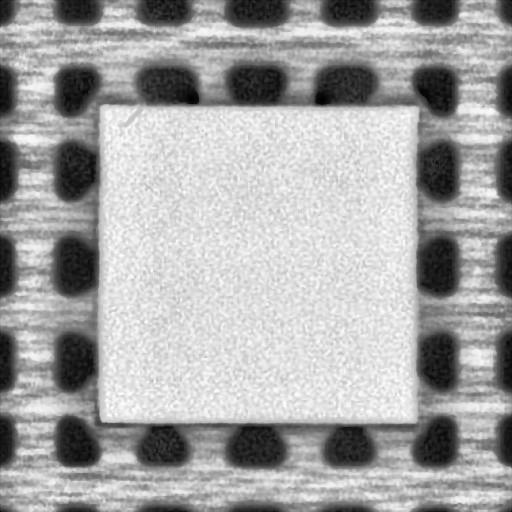DIE_CRACK: (119, 104, 142, 128)
